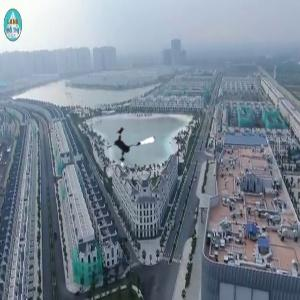drone: (103, 115, 156, 168)
